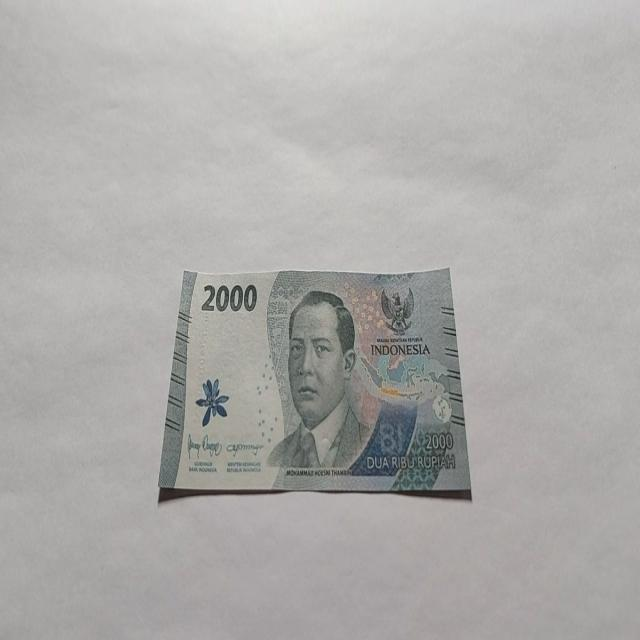dua ribu rupiah: (158, 264, 472, 502), (266, 287, 372, 474)
